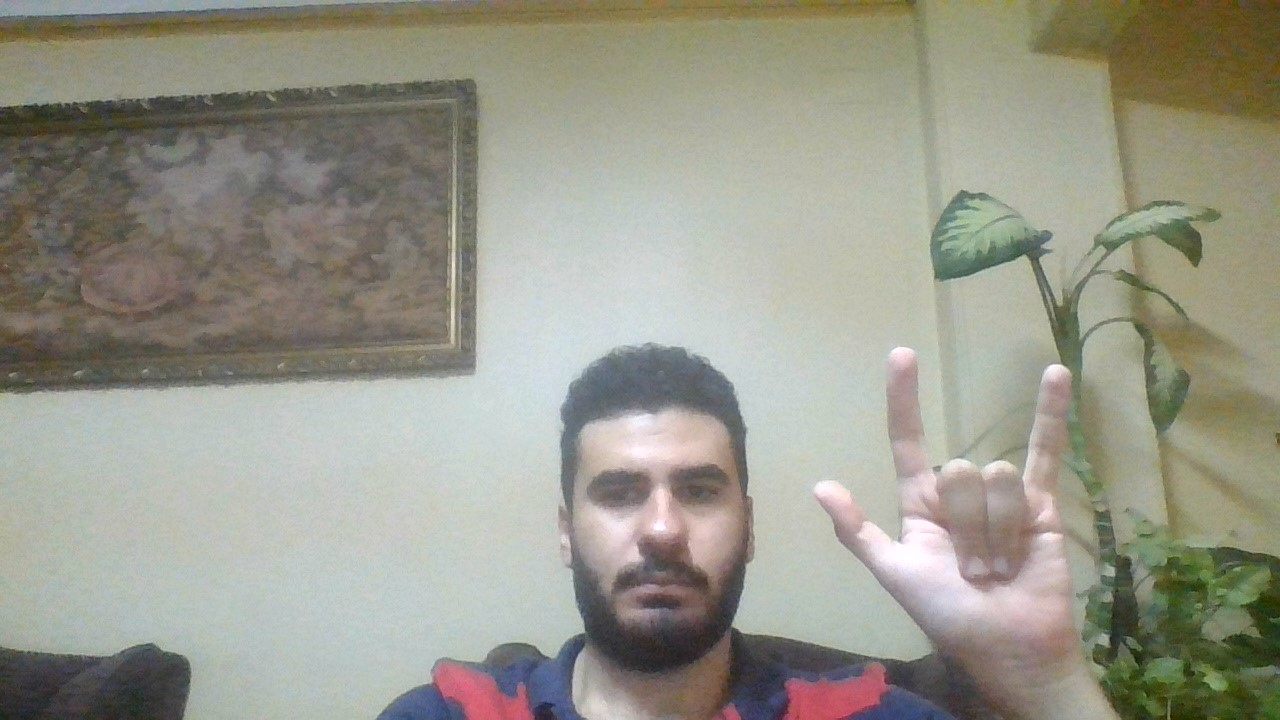love: (804, 322, 1109, 678)
